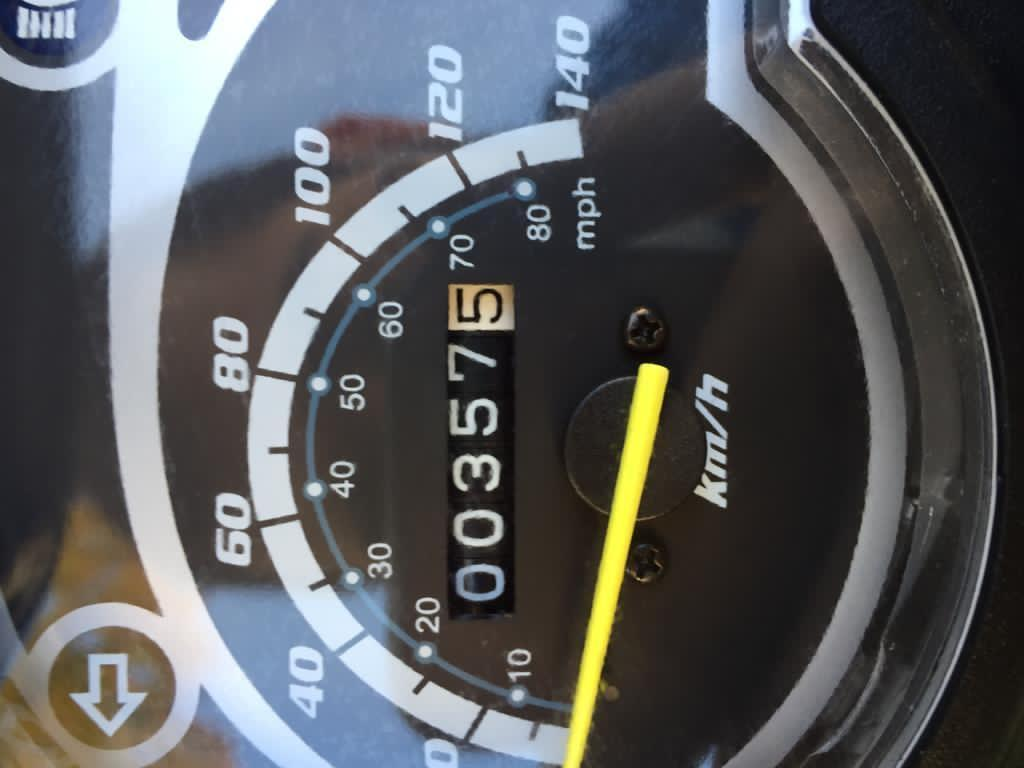0: (447, 506, 507, 549), (451, 560, 505, 603)
3: (447, 449, 505, 493)
5: (445, 395, 502, 436), (452, 285, 506, 325)
7: (441, 339, 502, 384)
odometer: (438, 272, 524, 622)
